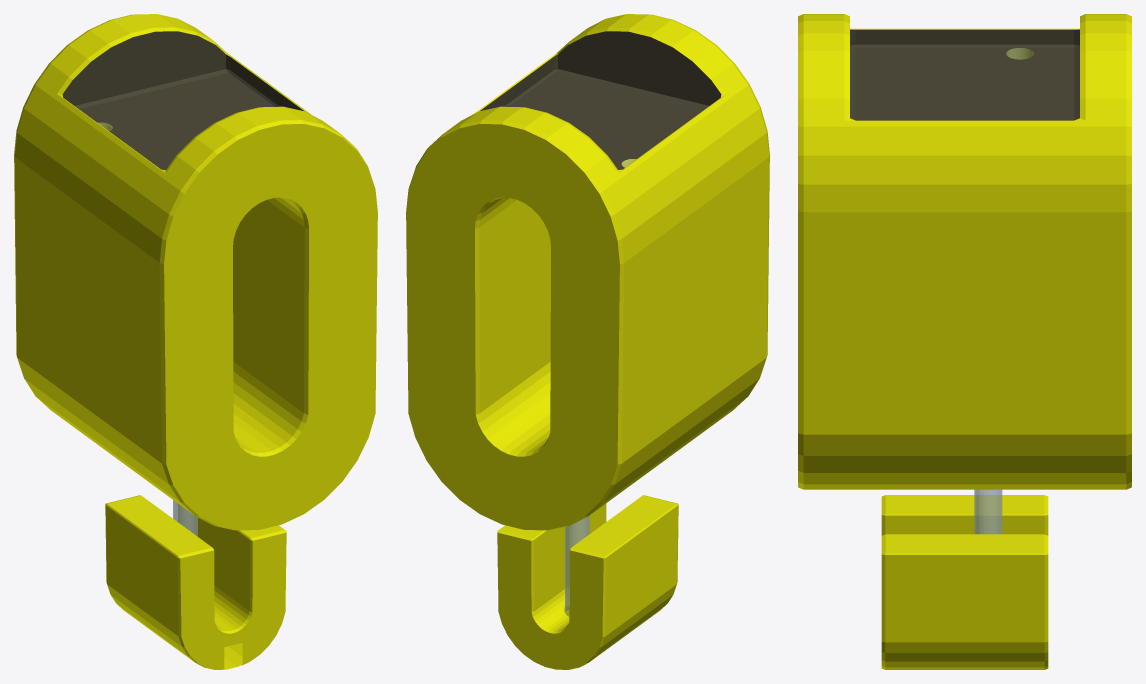
Rendered from obita_base_Vb_0.6_phat.glb.
The picture shows the model from 3 angles, left to right: view 1: azimuth 30°, elevation 25°; view 2: azimuth 150°, elevation 25°; view 3: azimuth 270°, elevation 25°; orthographic projection. The views are drawn at different scales.
Parts seen in each view (by area): view 1: O, u, club; view 2: O, u, club, lift; view 3: O, u, club, lift.
Part boxes in pixels (x1,y1,x2,y2): O: (14,14,377,530); u: (105,495,286,669); club: (62,31,303,169); O: (406,14,769,530); u: (497,495,678,669); club: (480,31,721,169); lift: (565,515,589,616); O: (798,14,1131,489); u: (881,495,1048,669); club: (850,29,1079,120); lift: (974,489,1002,534).
Size of what is drawn, in the model's own units: 33.63 by 84.45 by 40.15.
